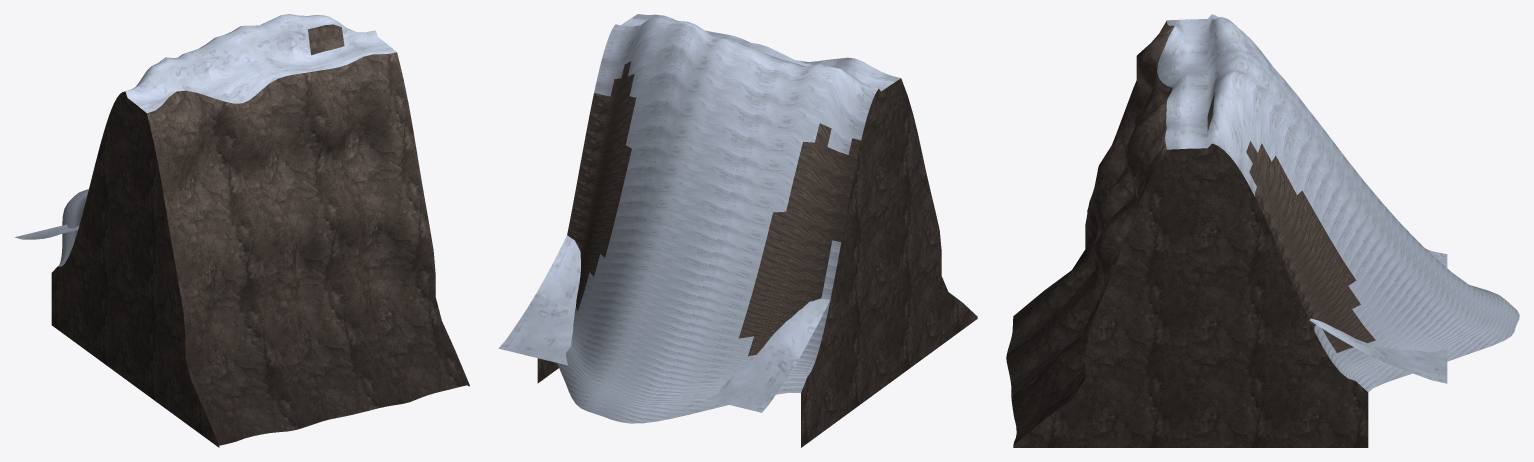
File: seacliff_straight6_h5_v5_winter.glb
The picture shows the model from 3 angles, left to right: view 1: azimuth 30°, elevation 25°; view 2: azimuth 150°, elevation 25°; view 3: azimuth 270°, elevation 25°; orthographic projection. The views are drawn at different scales.
Parts seen in each view (by area): view 1: seacliff_straight6_h5; view 2: seacliff_straight6_h5; view 3: seacliff_straight6_h5.
Part boxes in pixels (left/top/right/bottom): seacliff_straight6_h5: left=15, top=14, right=469, bottom=447; seacliff_straight6_h5: left=498, top=14, right=977, bottom=447; seacliff_straight6_h5: left=1006, top=14, right=1519, bottom=447.
Size of the model in its own units: 6 by 7.24 by 10.06.
Materials: 2 (2 with a texture image).
